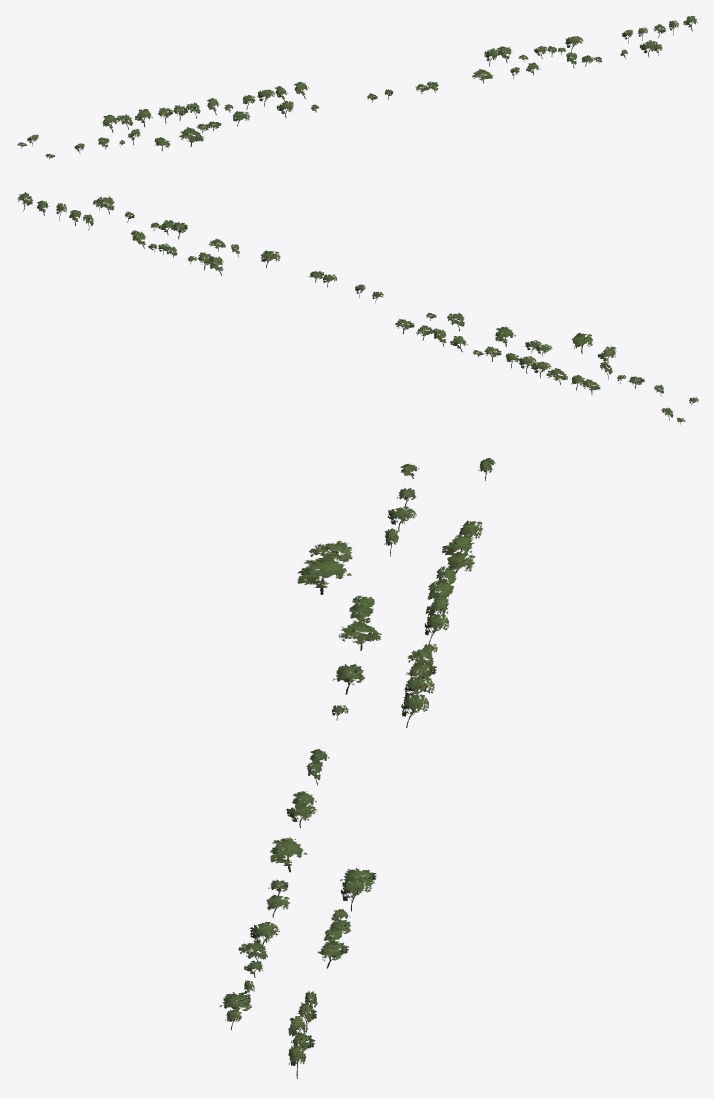
The picture shows the model from 3 angles, top to bottom: view 1: azimuth 30°, elevation 25°; view 2: azimuth 150°, elevation 25°; view 3: azimuth 270°, elevation 25°; orthographic projection. The views are drawn at different scales.
Visible parts, largest first — view 1: Marina Boulevard Sindora crowns, Marina Boulevard Sindora bark; view 2: Marina Boulevard Sindora crowns, Marina Boulevard Sindora bark; view 3: Marina Boulevard Sindora crowns.
Part boxes in pixels (x1,y1,x2,y2): Marina Boulevard Sindora crowns: (17, 16, 697, 158); Marina Boulevard Sindora bark: (21, 22, 693, 159); Marina Boulevard Sindora crowns: (17, 192, 698, 422); Marina Boulevard Sindora bark: (23, 198, 692, 424); Marina Boulevard Sindora crowns: (219, 458, 495, 1065).
Bounding box in the file's own units: 487 × 12.35 × 93.75.
Materials: 2 (2 with a texture image).
